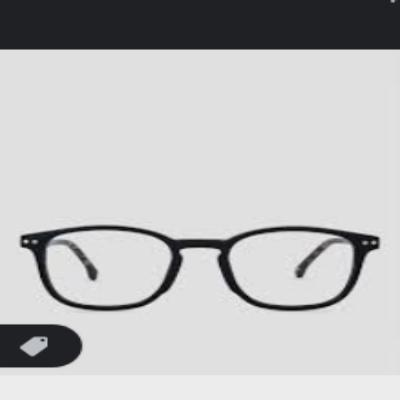glasses: (13, 215, 386, 323)
